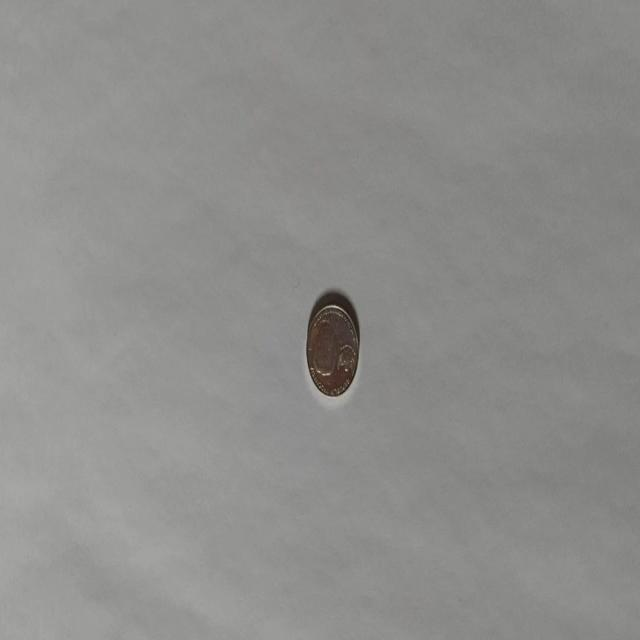seratus rupiah: (305, 302, 359, 398)
